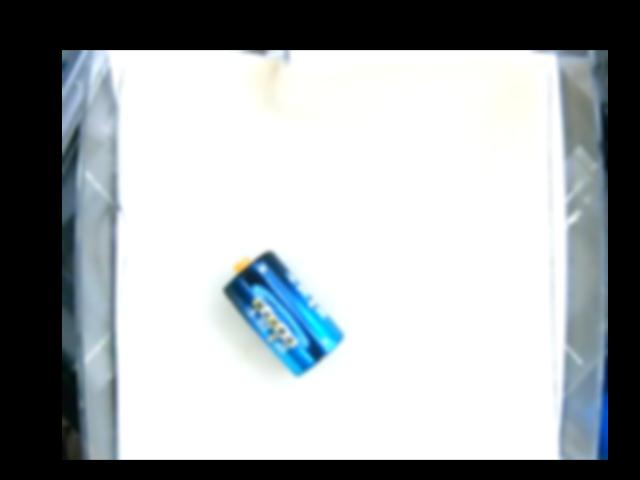Battery: (221, 247, 346, 378)
